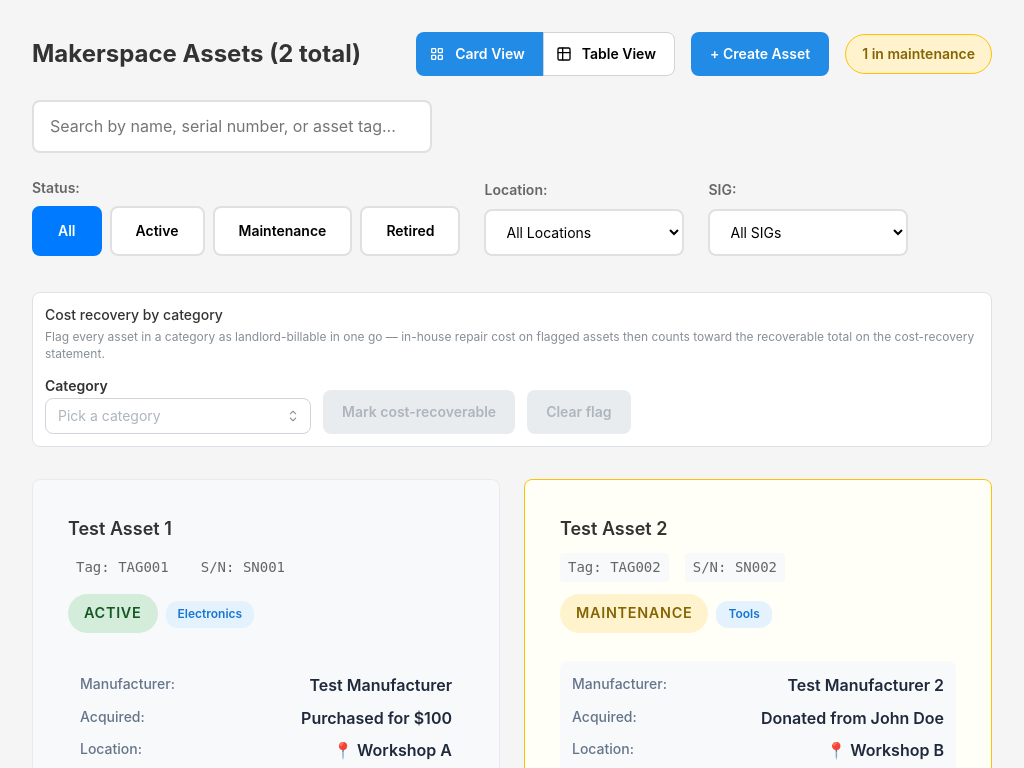
Scenario: AssetList › bulk cost-recovery by category › clears the flag for a category
Click the dropdown with test id "bulk-cost-recoverable-category" at (178,416), box [45,398,311,434]
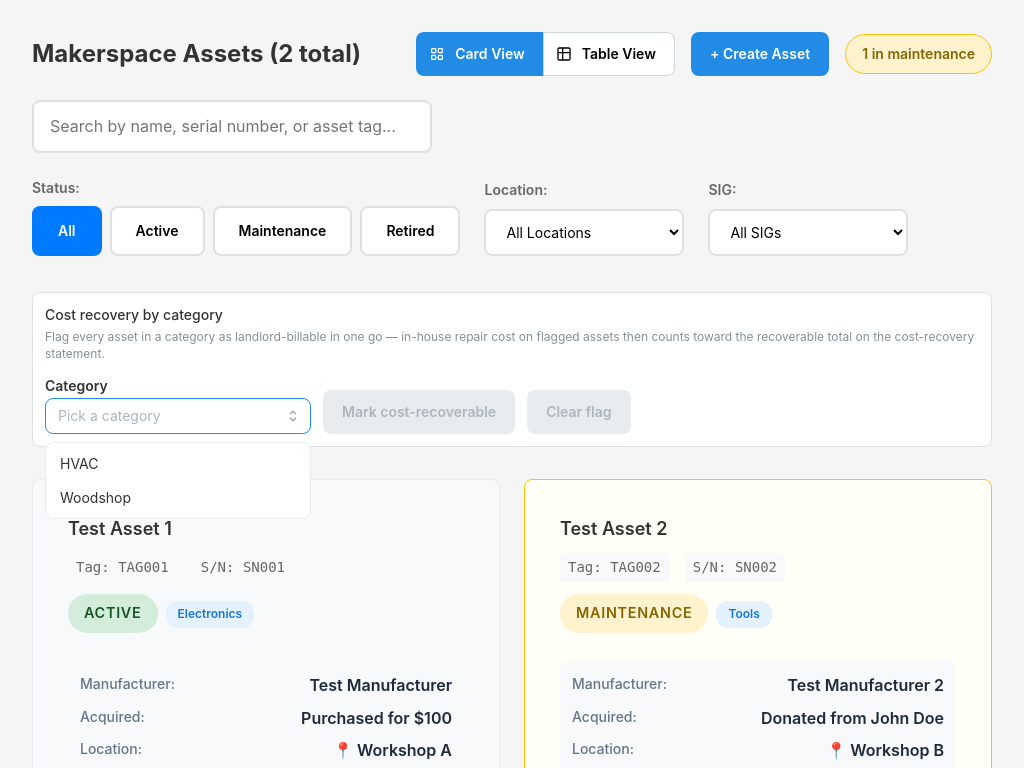
Click the option "HVAC" at (79,463), box [60,455,98,472]
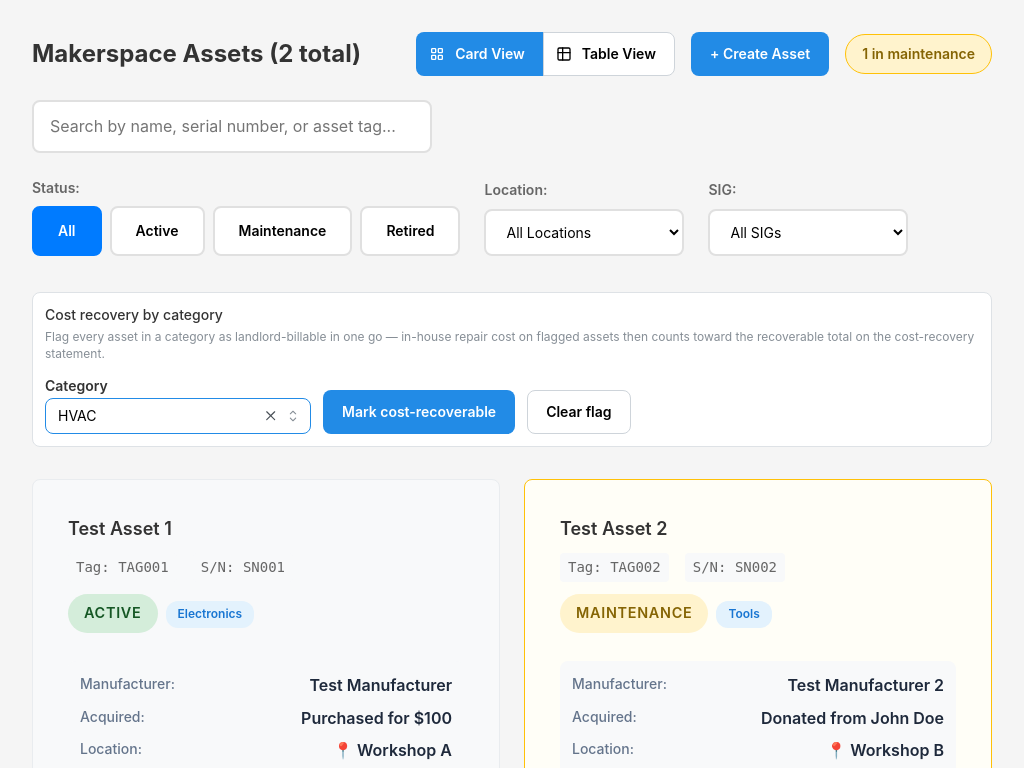
Click the button with test id "bulk-cost-recoverable-clear" at (579,412), box [527,390,630,434]
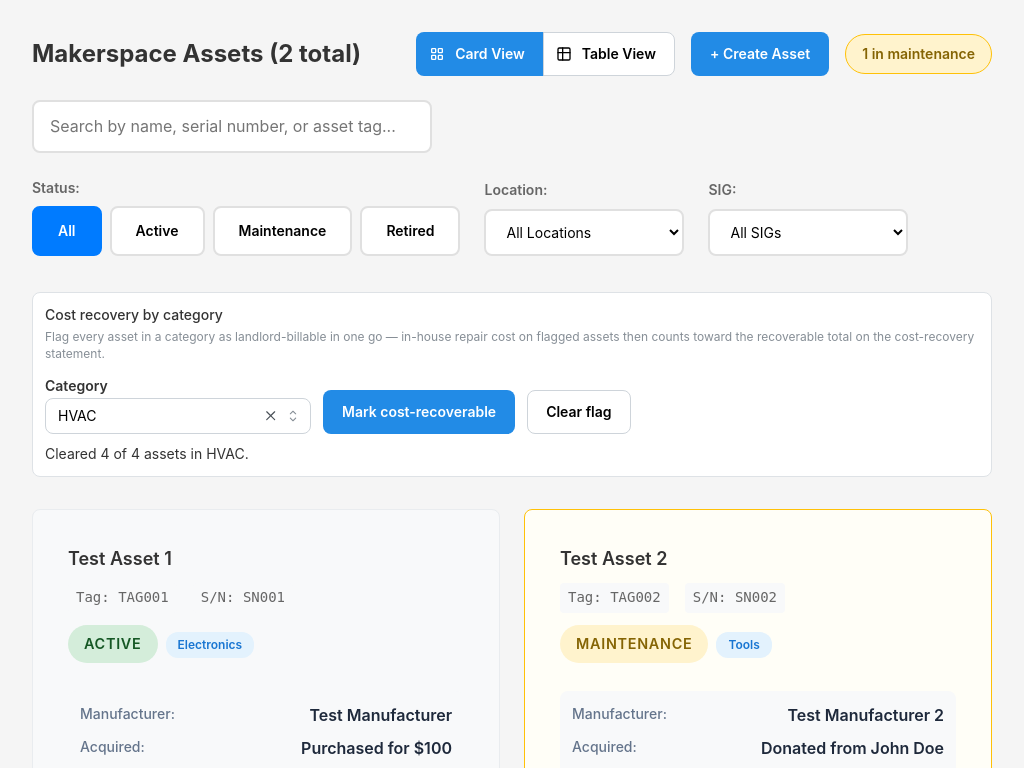
Expected: the text with test id "bulk-cost-recoverable-result" reads "Cleared 4 of 4 assets in HVAC.", [45,445,249,462]
